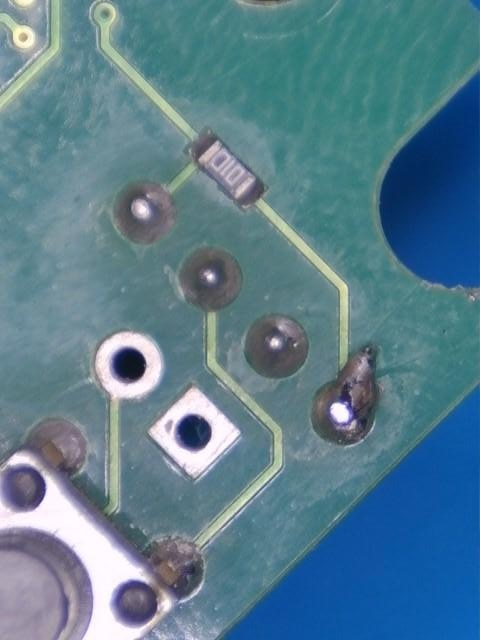pcb_defect: (311, 343, 382, 447)
